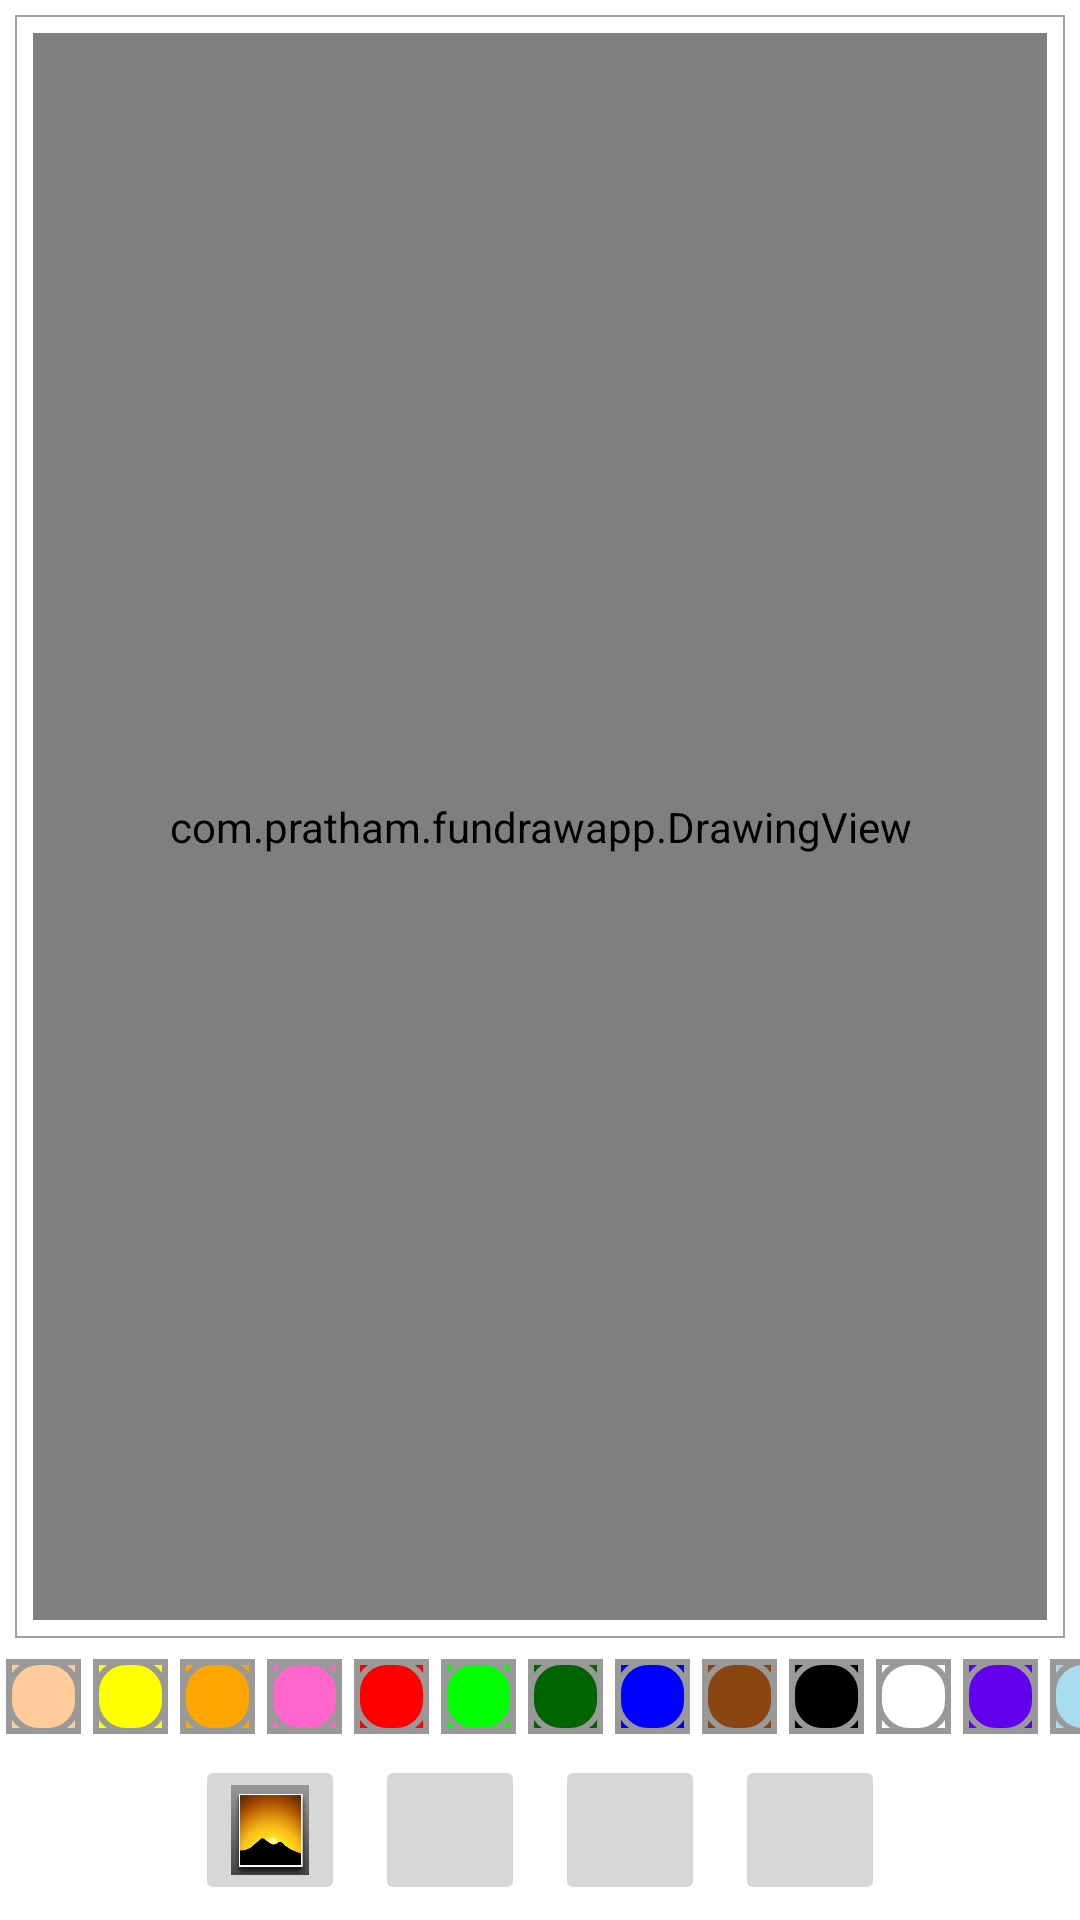

Point at icon controls on the screen. Image size 1080px×1920px, points as point (x, y).
gallery image: point (270, 1830)
